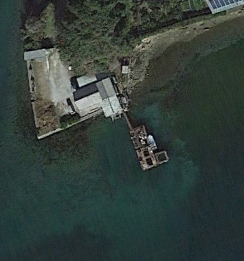house: (95, 78, 123, 117), (68, 83, 107, 110)
ship: (149, 131, 157, 151)
square: (154, 149, 171, 164), (141, 154, 156, 170), (137, 145, 154, 157)
